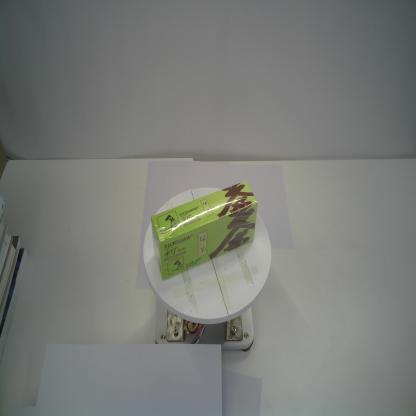Instant Drink: (150, 180, 258, 282)
